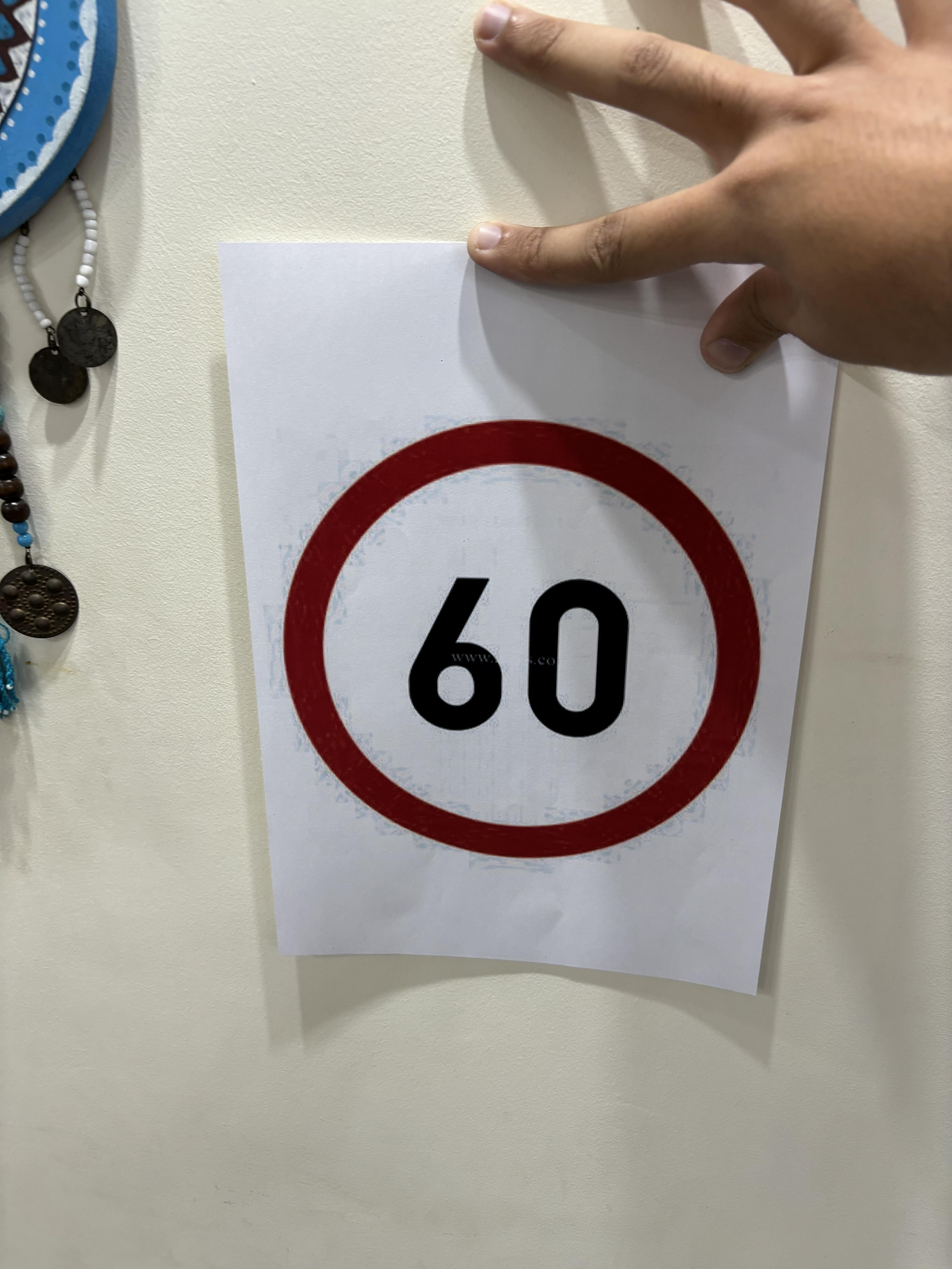60-Speed: (269, 405, 776, 869)
